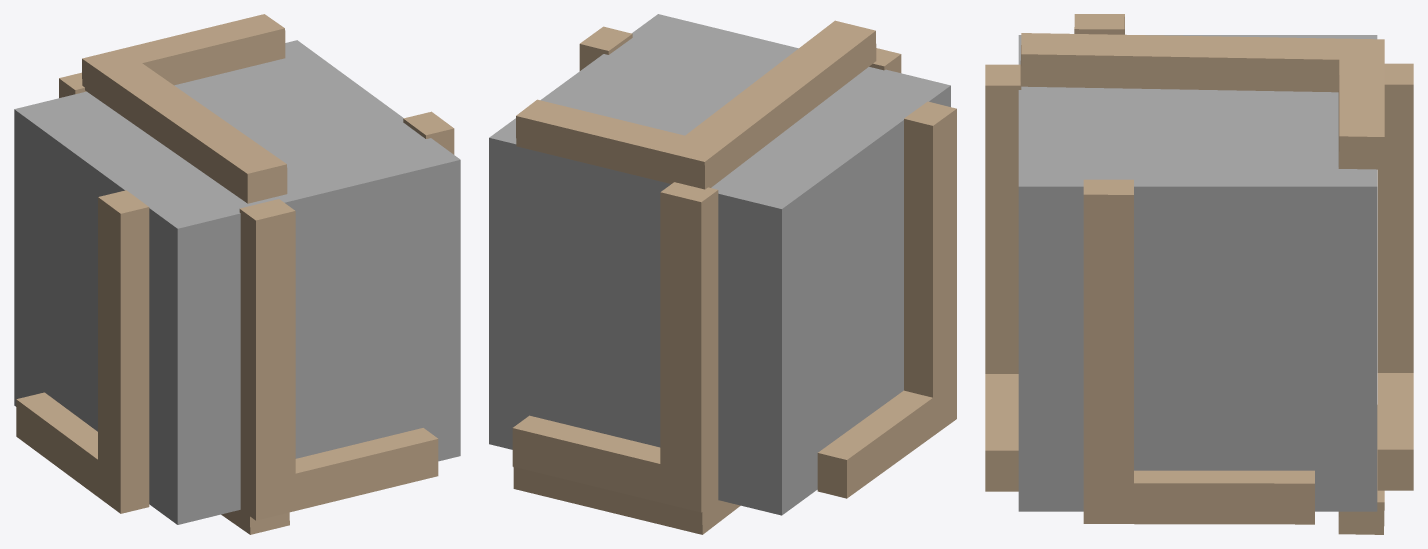
Rendered from LetterL.fbx.
3 renders of one model, left to right at view 1: azimuth 30°, elevation 25°; view 2: azimuth 150°, elevation 25°; view 3: azimuth 270°, elevation 25°, orthographic. The views are drawn at different scales.
Visible parts, largest first — view 1: Box, Text Front, Text Left, Text Top, Text Right, Text Bottom; view 2: Box, Text Back, Text Left, Text Top, Text Bottom, Text Right, Text Front; view 3: Box, Text Right, Text Top, Text Back, Text Front, Text Bottom, Text Left.
Part boxes in pixels (x1,y1,x2,y2): Box: (14, 40, 460, 524); Text Front: (239, 199, 438, 520); Text Left: (16, 190, 149, 513); Text Top: (82, 14, 287, 203); Text Right: (403, 111, 454, 154); Text Bottom: (221, 509, 289, 534); Box: (489, 14, 950, 515); Text Back: (512, 182, 718, 512); Text Left: (817, 101, 956, 498); Text Top: (516, 20, 876, 189); Text Bottom: (513, 467, 740, 534); Text Right: (579, 26, 632, 70); Text Front: (869, 48, 901, 72); Box: (1018, 35, 1377, 511); Text Right: (1083, 179, 1314, 524); Text Top: (1020, 33, 1384, 169); Text Back: (1377, 63, 1413, 490); Text Front: (985, 64, 1021, 491); Text Bottom: (1338, 405, 1384, 534); Text Left: (1074, 14, 1124, 34).
Bounding box in the file's own units: 1.2 × 1.24 × 1.19.
